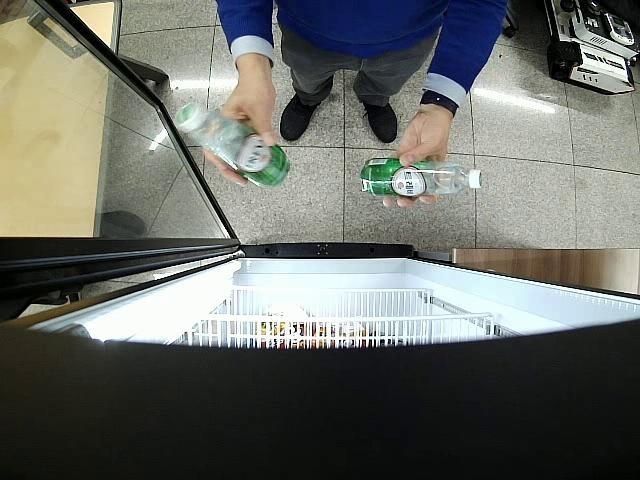18_trevi: (174, 102, 290, 186), (361, 158, 482, 196)
